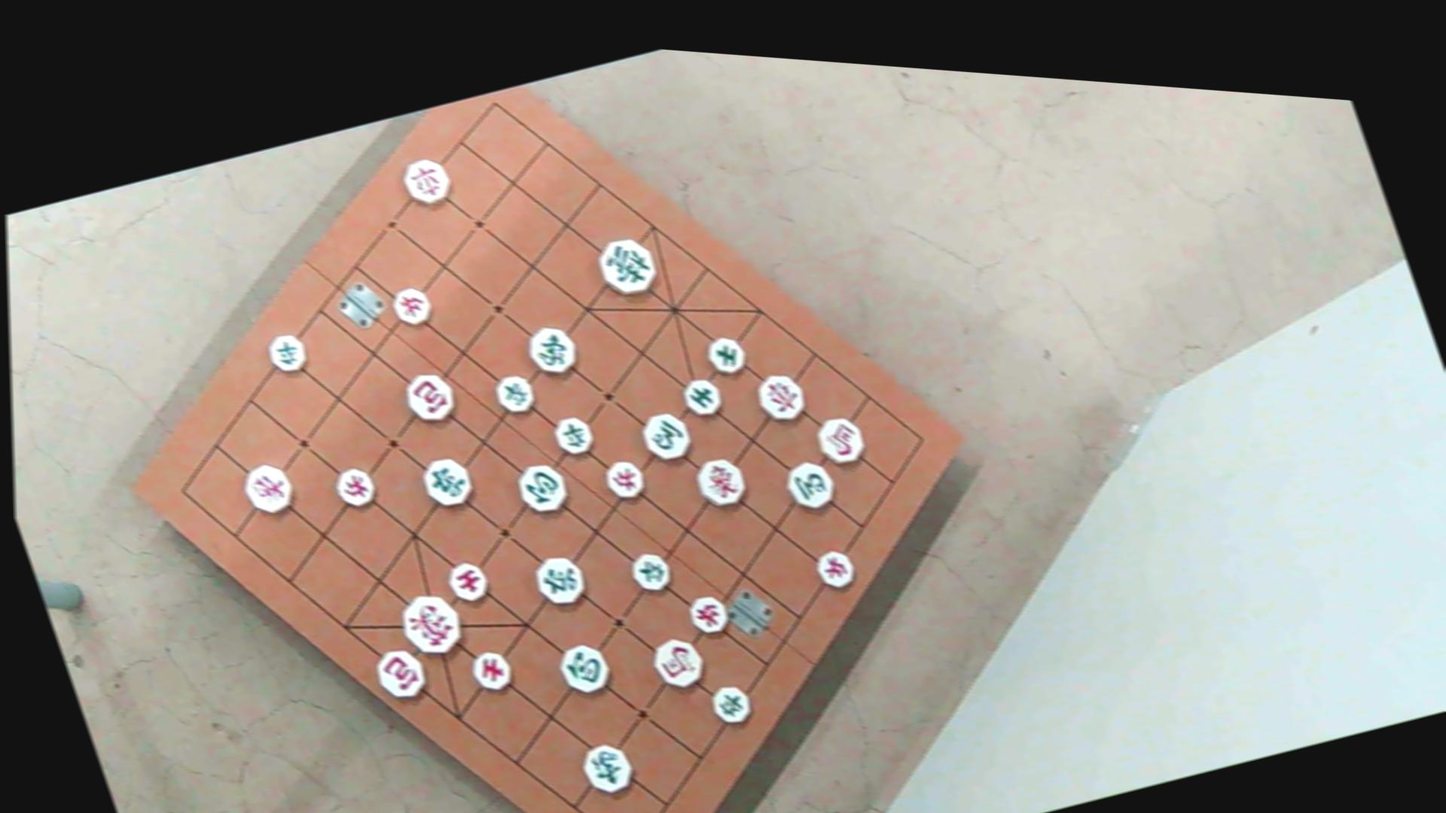cha_green: (529, 548, 590, 611), (416, 450, 476, 512)
cha_red: (749, 365, 810, 428), (397, 151, 454, 210)
jol_green: (708, 678, 757, 728), (625, 547, 673, 597), (548, 410, 596, 459), (262, 327, 310, 376), (493, 368, 540, 416)
jol_red: (330, 463, 380, 513), (685, 589, 734, 638), (814, 544, 862, 593), (389, 280, 437, 329), (602, 455, 649, 503)
ma_green: (636, 406, 694, 467), (782, 454, 840, 515)
ma_red: (645, 630, 708, 694), (810, 411, 869, 472)
po_green: (514, 457, 575, 520), (554, 636, 613, 698)
po_red: (371, 644, 432, 708), (397, 367, 458, 429)
sa_green: (678, 372, 725, 421), (701, 332, 748, 380)
sa_red: (467, 644, 516, 696), (444, 556, 493, 607)
sang_green: (575, 738, 636, 801), (520, 317, 580, 380)
sang_red: (238, 458, 299, 521), (692, 452, 752, 513)
wang_green: (594, 229, 664, 301)
wang_red: (395, 585, 468, 662)
